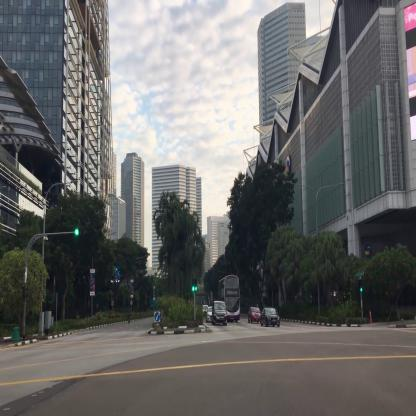green_traffic_light: (75, 230, 86, 235), (192, 278, 194, 291)
